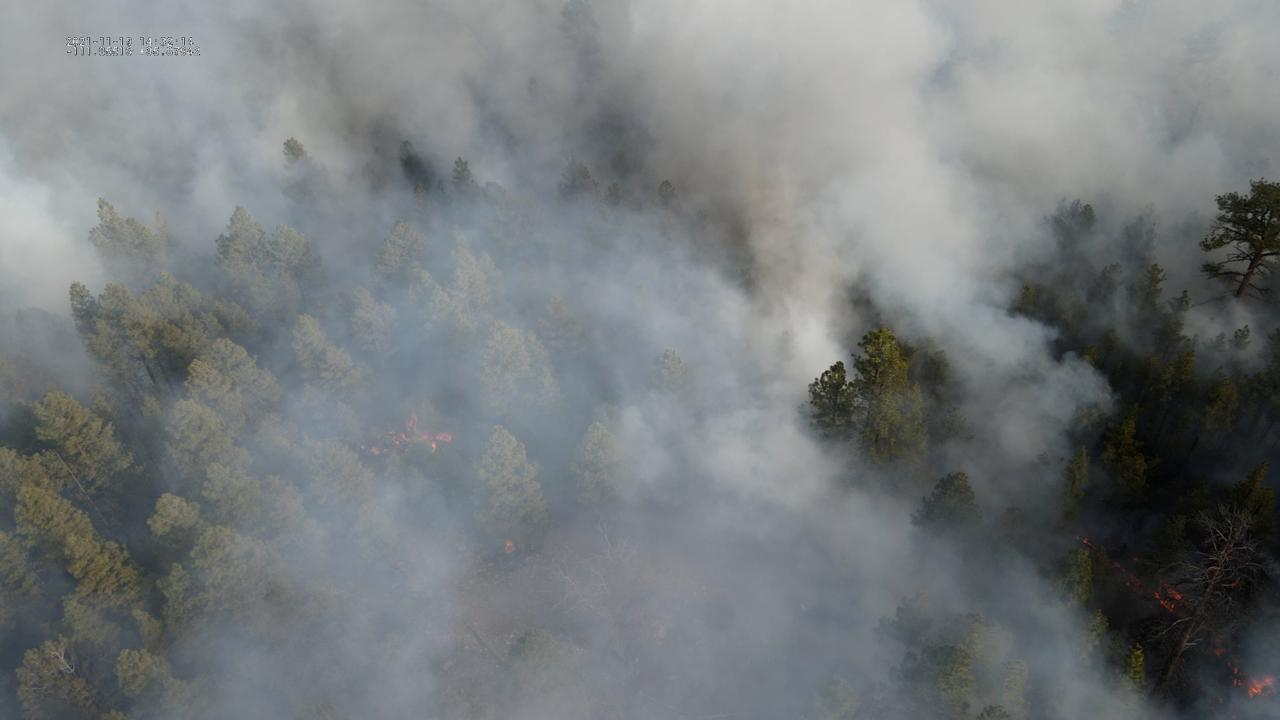fire: (386, 410, 453, 454), (1227, 659, 1280, 702), (1108, 559, 1151, 598), (1153, 579, 1185, 615), (503, 539, 517, 556), (1213, 647, 1232, 656), (368, 446, 381, 456), (1131, 554, 1142, 563), (1081, 536, 1090, 545)
smoke: (0, 0, 1280, 720)
